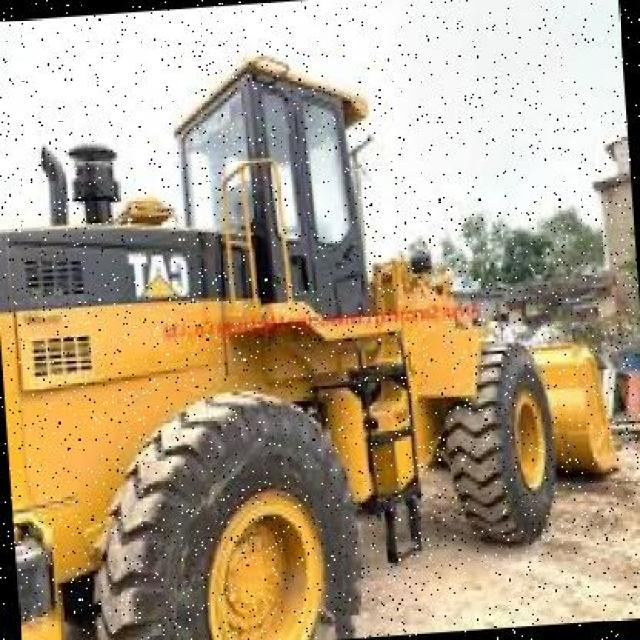buldozerpayloadergrader: (0, 20, 632, 640)
